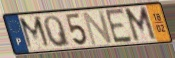5: (64, 13, 89, 47)
E: (103, 7, 135, 46)
M: (123, 5, 159, 44), (17, 15, 53, 51)
N: (81, 10, 114, 47)
Q: (43, 14, 72, 48)
